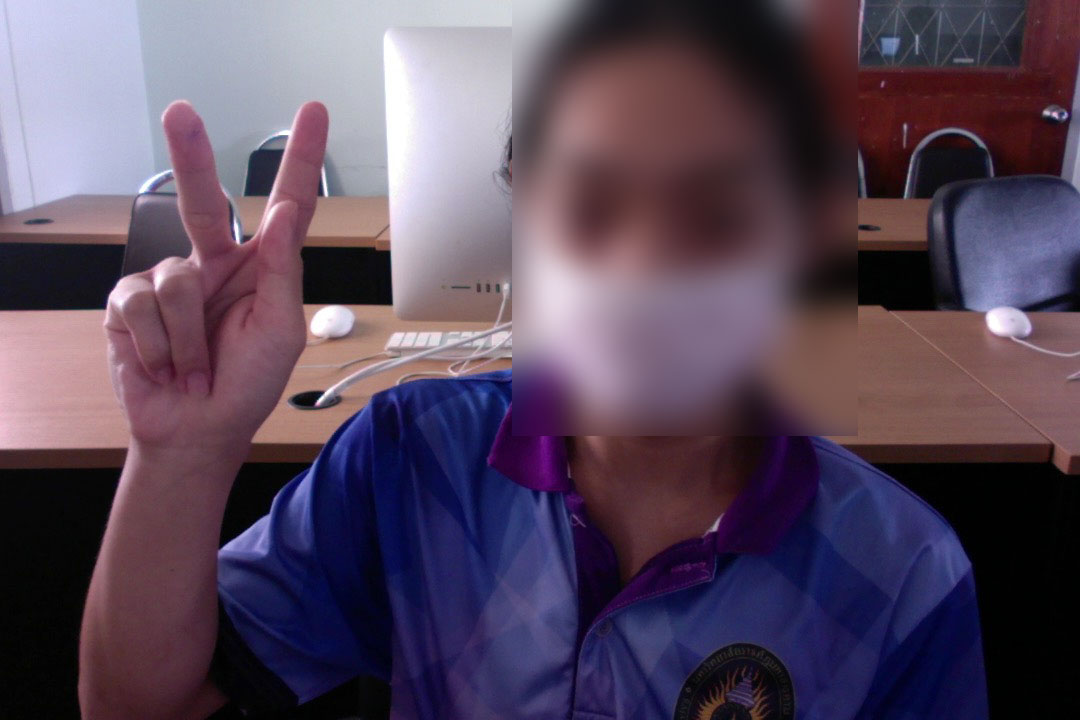ko: (102, 95, 334, 454)
